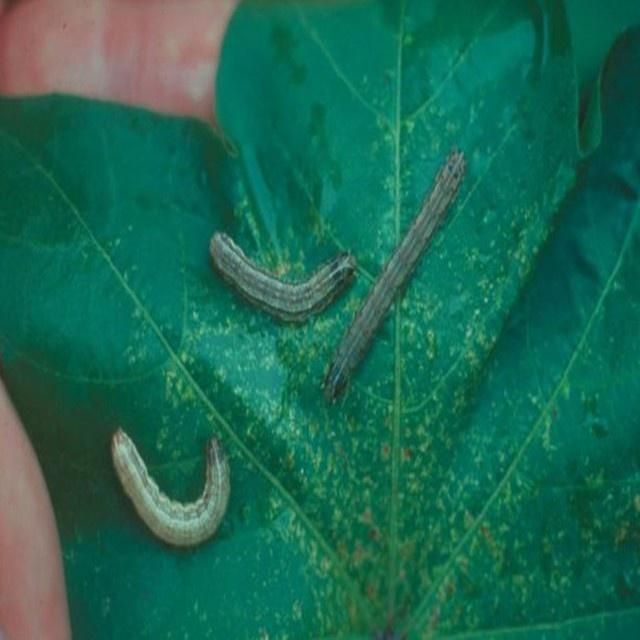gusano_cogollero: (102, 423, 238, 552), (202, 219, 362, 324)
